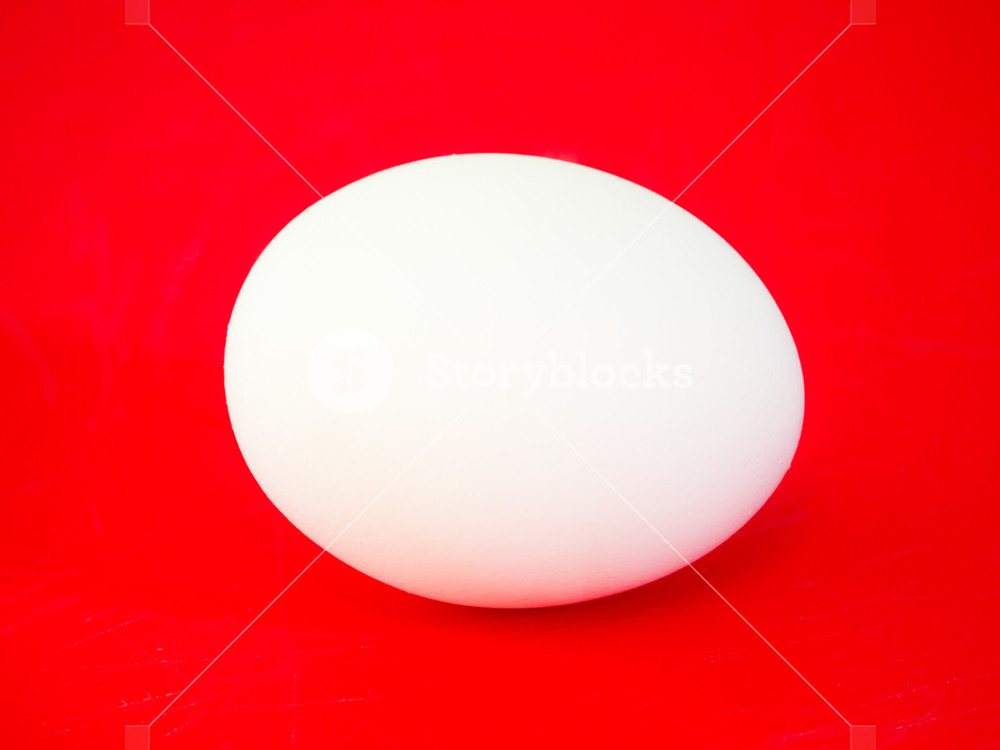Egg: (202, 130, 833, 642)
